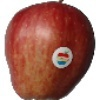apple: (6, 1, 95, 100)
